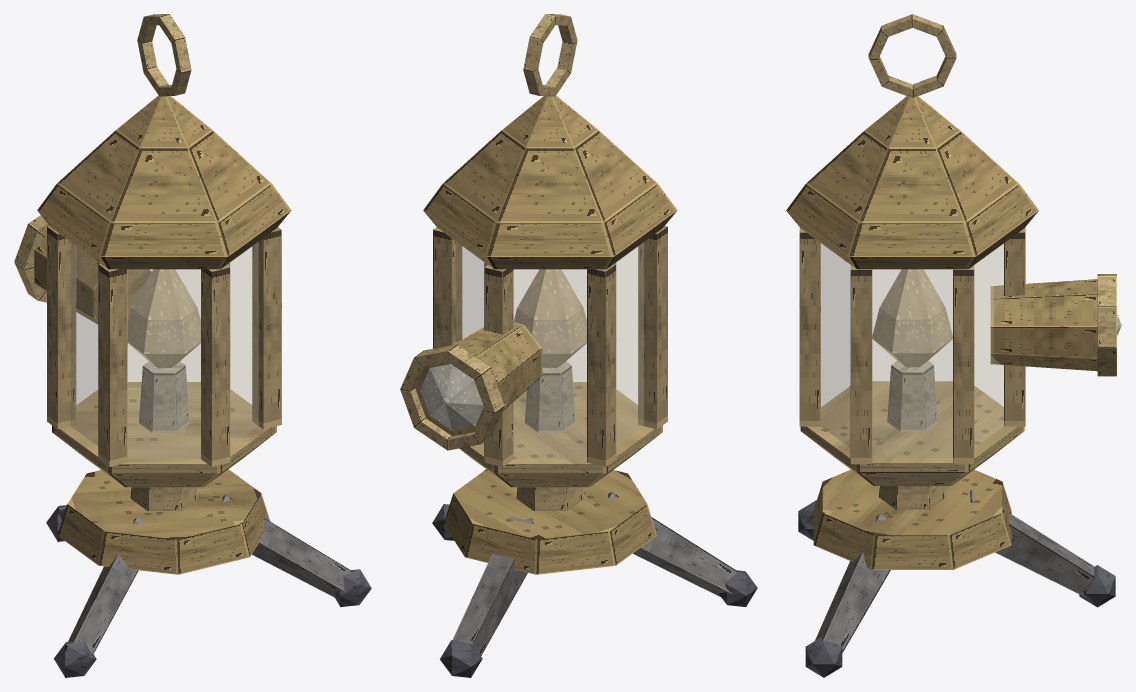
The model's file is prop_lantern.gltf.
3 renders of one model, left to right at view 1: azimuth 30°, elevation 25°; view 2: azimuth 150°, elevation 25°; view 3: azimuth 270°, elevation 25°, orthographic.
Parts seen in each view (by area): view 1: head, base, glass, flame; view 2: head, base, glass, flame, lens; view 3: head, glass, base, flame.
Boxes of the visible parts, left/top/right/bottom form: head: left=14, top=14, right=291, bottom=487; base: left=46, top=469, right=371, bottom=677; glass: left=71, top=242, right=258, bottom=458; flame: left=127, top=269, right=200, bottom=367; head: left=400, top=14, right=677, bottom=487; base: left=432, top=469, right=757, bottom=677; glass: left=456, top=242, right=643, bottom=458; flame: left=513, top=269, right=586, bottom=367; lens: left=420, top=364, right=483, bottom=430; head: left=786, top=14, right=1116, bottom=485; glass: left=821, top=243, right=1003, bottom=457; base: left=798, top=469, right=1115, bottom=677; flame: left=872, top=269, right=952, bottom=367.
Bounding box in the file's own units: 0.3664 × 0.6667 × 0.345.
5 materials, 4 textured.
